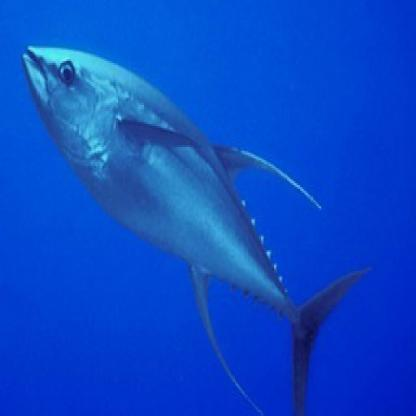Bio: (17, 38, 370, 414)
